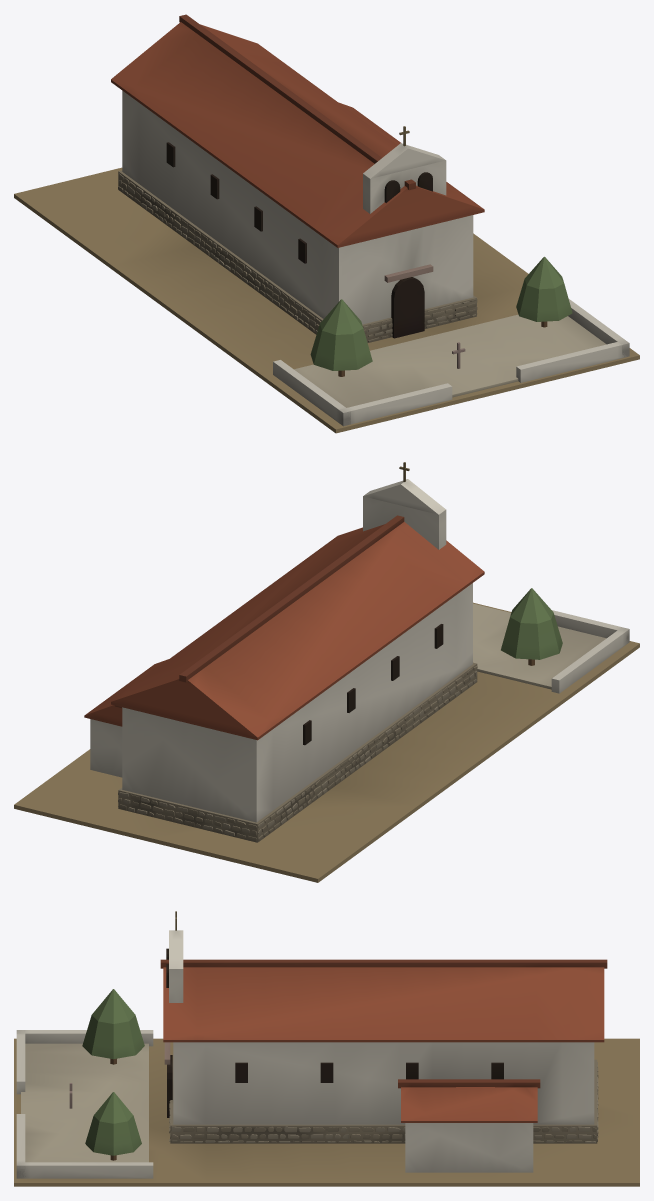
Rendered from san-blas.glb.
The picture shows the model from 3 angles, top to bottom: view 1: azimuth 30°, elevation 25°; view 2: azimuth 150°, elevation 25°; view 3: azimuth 270°, elevation 25°; orthographic projection. The views are drawn at different scales.
Parts seen in each view (by area): view 1: p0_atrium, p2_roof, p1_nave; view 2: p0_atrium, p2_roof, p1_nave; view 3: p0_atrium, p2_roof, p1_nave.
Part boxes in pixels (x1=…): p0_atrium: x1=14, y1=167, x2=639, y2=433; p2_roof: x1=111, y1=14, x2=484, y2=247; p1_nave: x1=118, y1=90, x2=477, y2=342; p0_atrium: x1=14, y1=588, x2=639, y2=882; p2_roof: x1=84, y1=462, x2=484, y2=740; p1_nave: x1=90, y1=583, x2=477, y2=842; p0_atrium: x1=14, y1=989, x2=639, y2=1186; p2_roof: x1=160, y1=911, x2=607, y2=1122; p1_nave: x1=164, y1=1042, x2=598, y2=1172.
Bounding box in the file's own units: 24 × 15.74 × 44.
